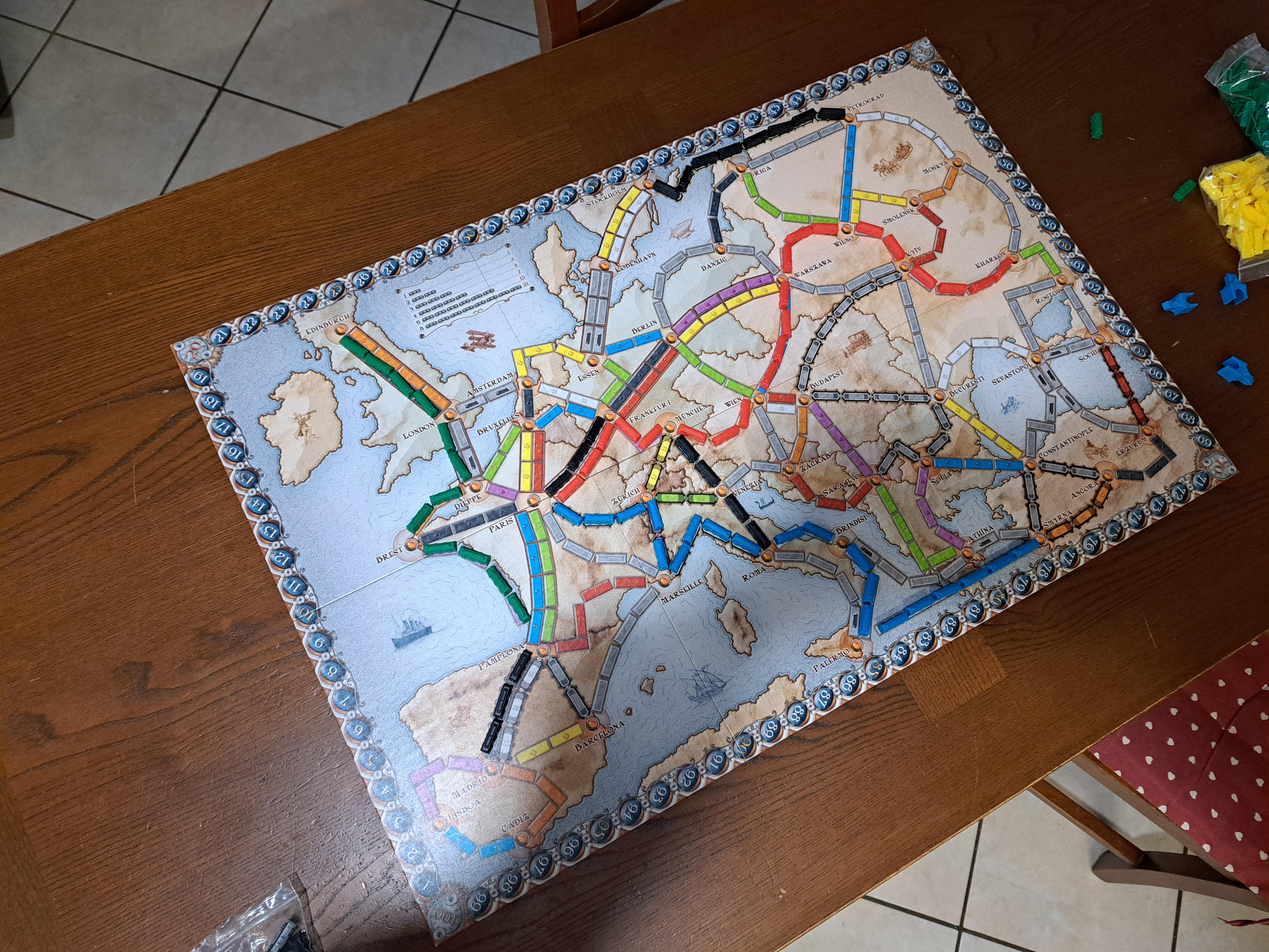corner_bl: (422, 890, 471, 945)
corner_br: (1199, 450, 1239, 483)
corner_tl: (171, 333, 215, 369)
corner_tr: (906, 37, 940, 65)
